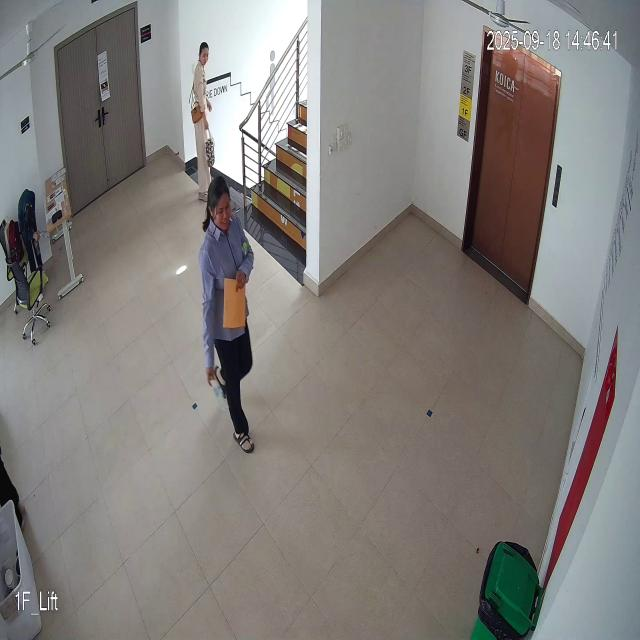face: (208, 173, 232, 231)
